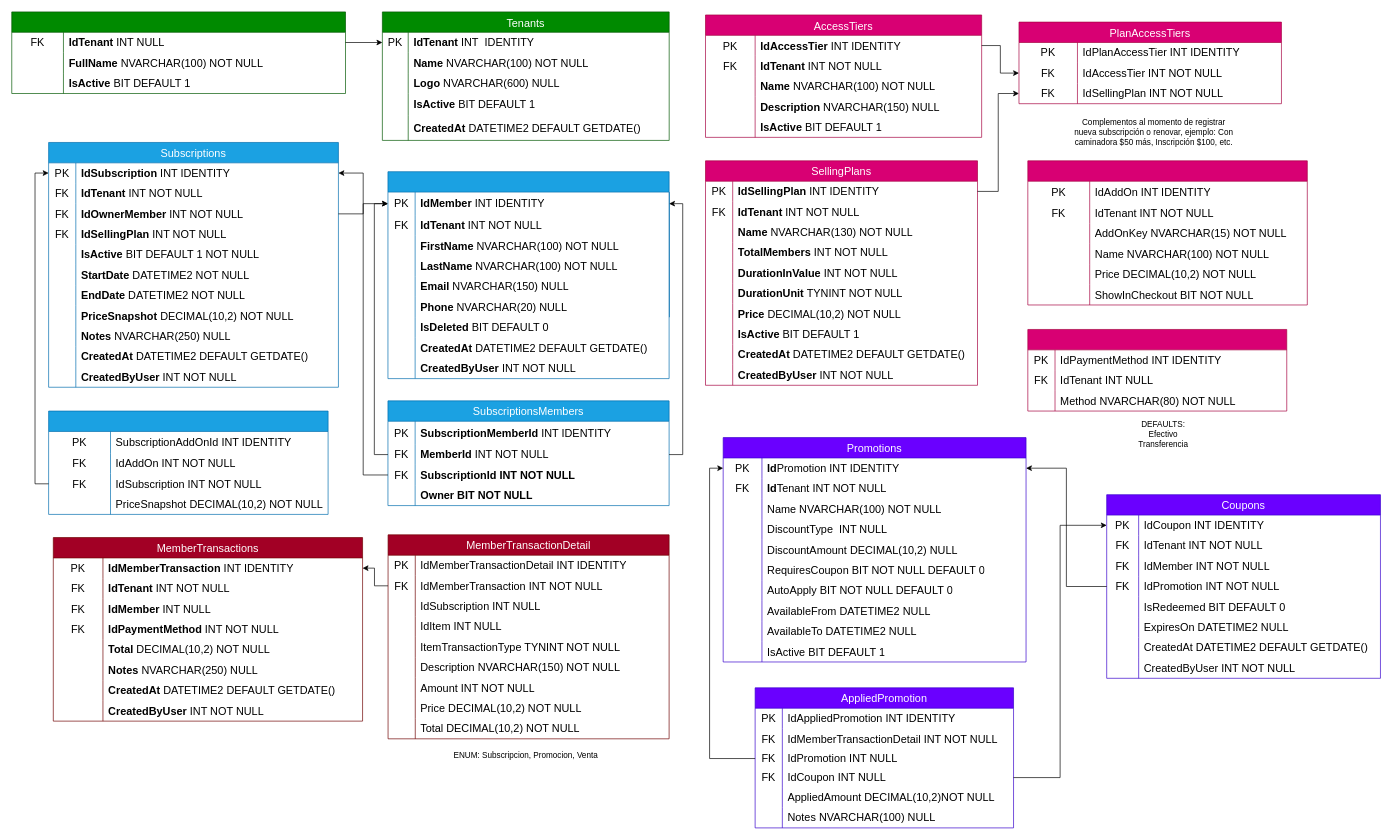
The diagram is 1393 pixels wide and 840 high, and some of its shapes have lost their labels. The shapes that lost their labels are listed below. From the top down, each one's box as (x1, y1, x2, y2) in pixels, then its label:
(11, 11, 346, 94): ApplicationUser
(1027, 160, 1307, 305): AddOns
(387, 171, 669, 379): Members
(1027, 329, 1287, 411): PaymentMethods
(48, 410, 328, 514): SbscriptionAddOns
